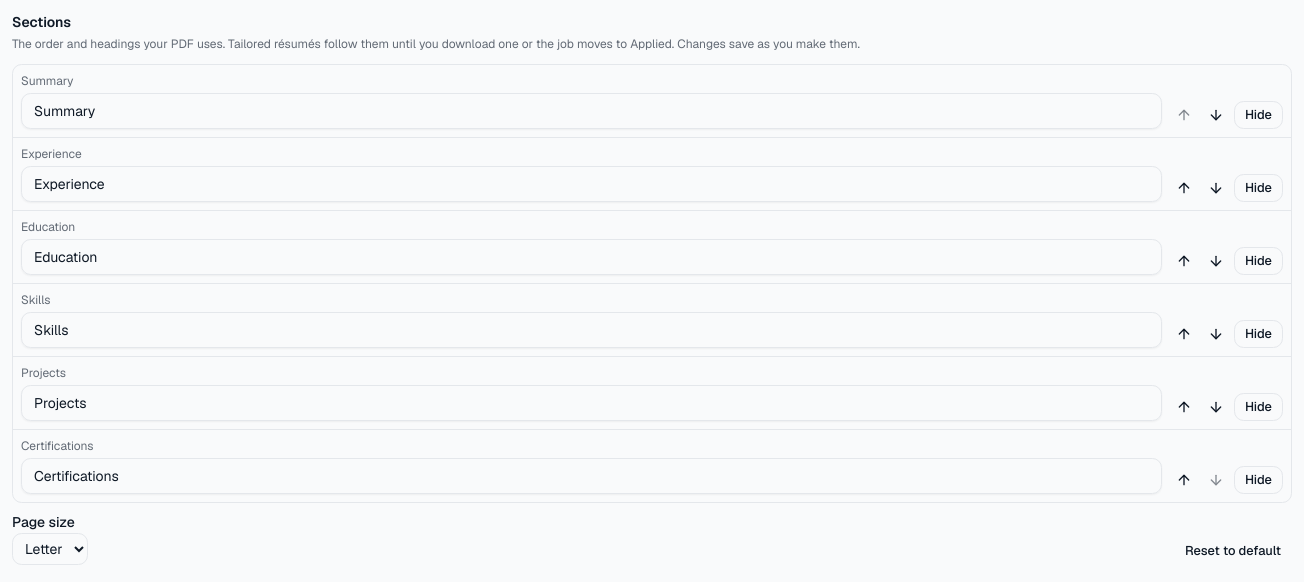
Test: ResumeLayoutEditor (#415) › renames a section on Enter or when the field is left, and Escape cancels
This screenshot has width=1304, height=582.
Replace the text in the field named "Skills heading" with "Technical Skills" at (591, 330), box top-left (21, 312), bottom-right (1162, 348)
Then press Enter
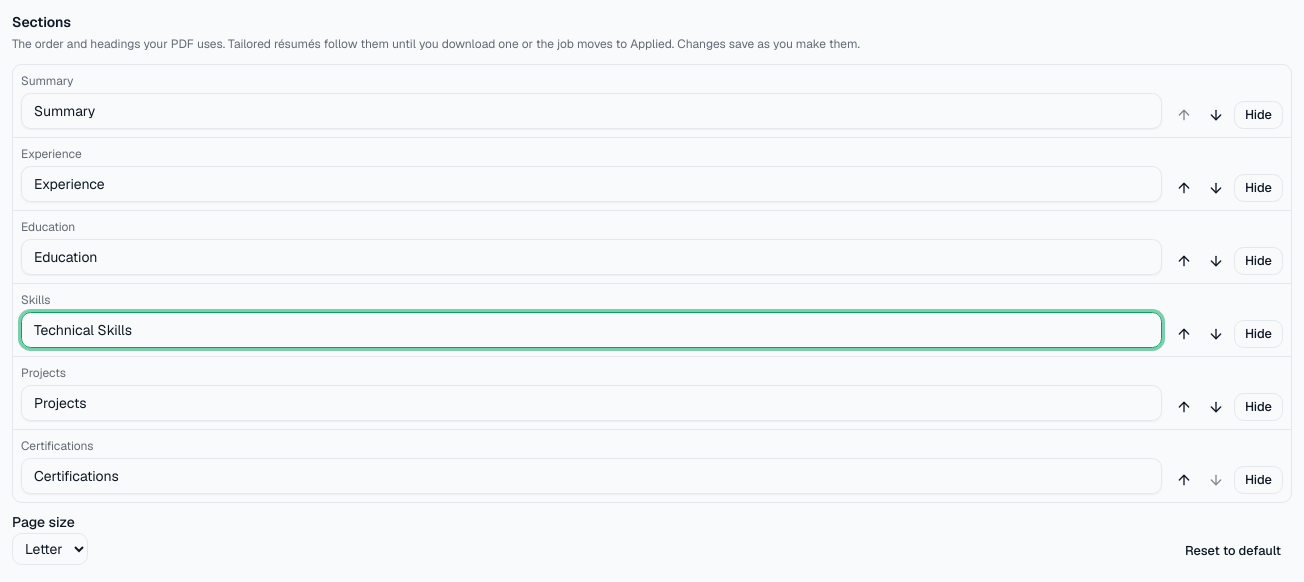
Replace the text in the field named "Experience heading" with "Oops" at (591, 184), box top-left (21, 166), bottom-right (1162, 202)
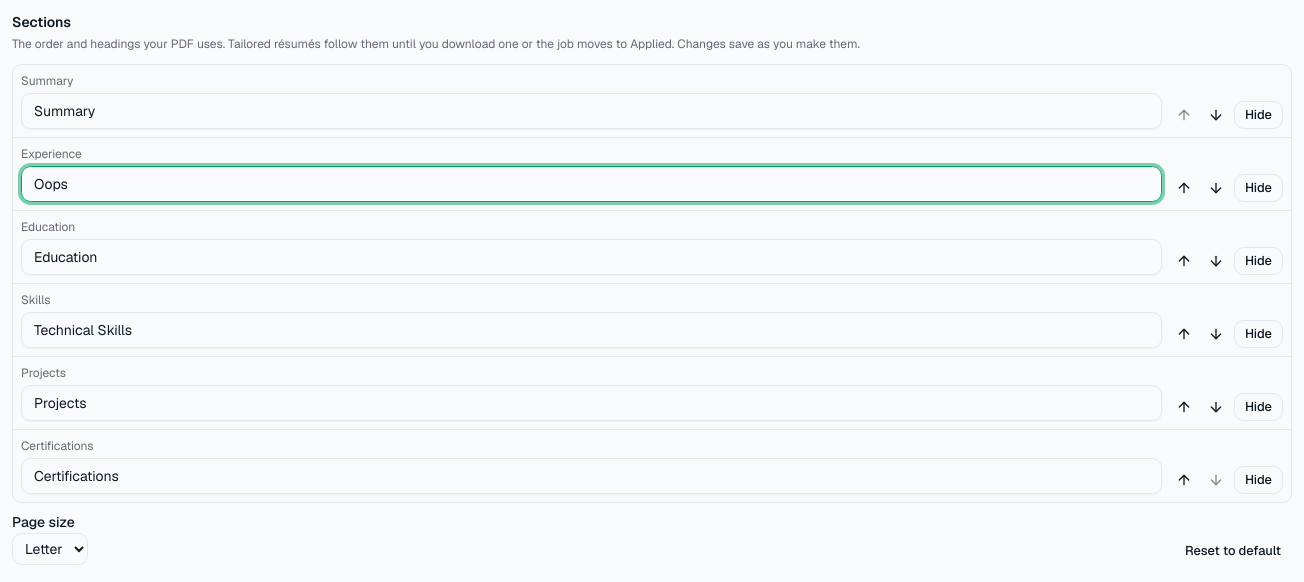
Press Escape
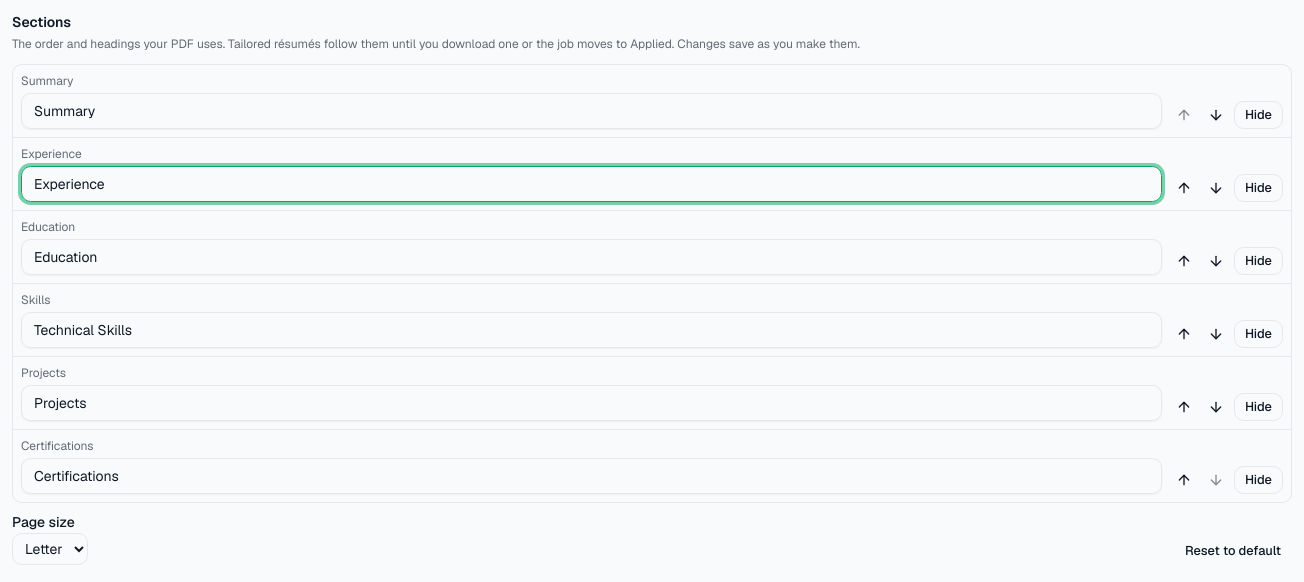
Expected: the field named "Experience heading" holds "Experience", top-left (21, 166), bottom-right (1162, 202)
Press Tab
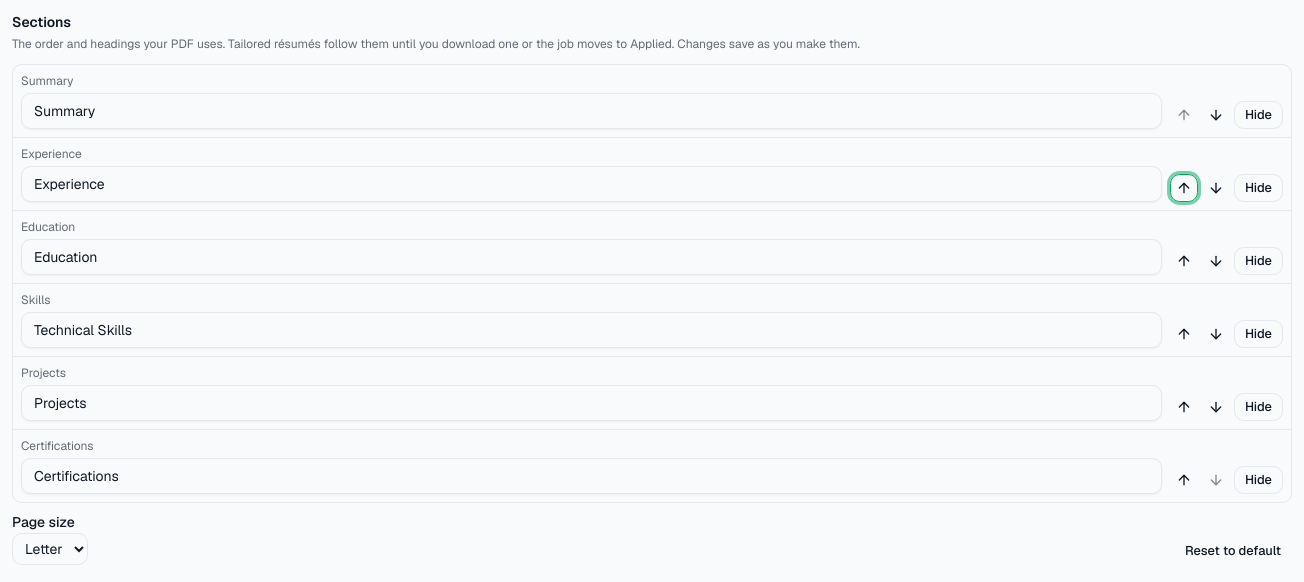
Replace the text in the field named "Experience heading" with "Professional Experience" at (591, 184), box top-left (21, 166), bottom-right (1162, 202)
Press Tab
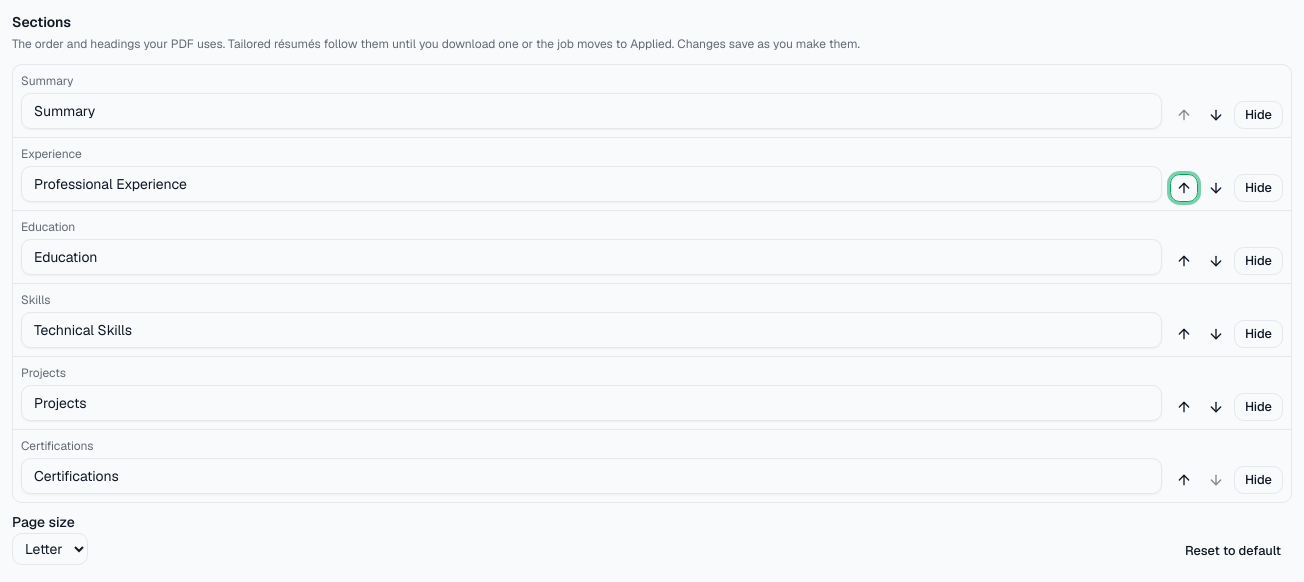
Expected: the button named "Move Professional Experience up" is shown, top-left (1170, 174), bottom-right (1198, 202)
# An empty heading is the default one again, and isn't saved as a title.
Clear the field named "Skills heading" at (591, 330), box top-left (21, 312), bottom-right (1162, 348)
Press Tab
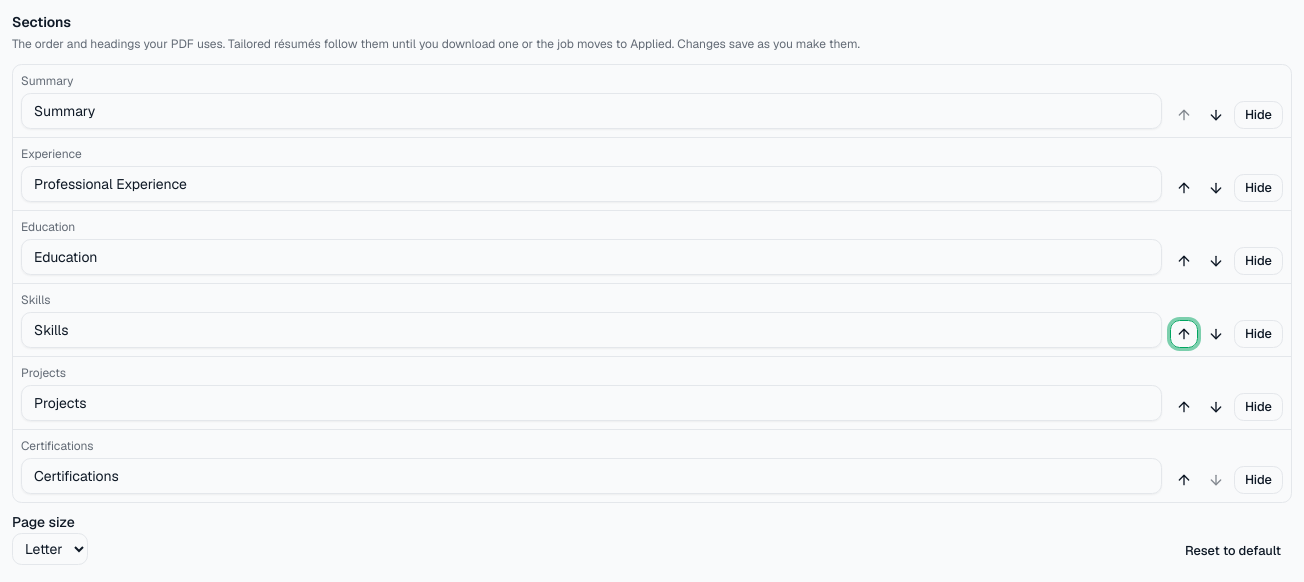
Expected: the field named "Skills heading" holds "Skills", top-left (21, 312), bottom-right (1162, 348)
